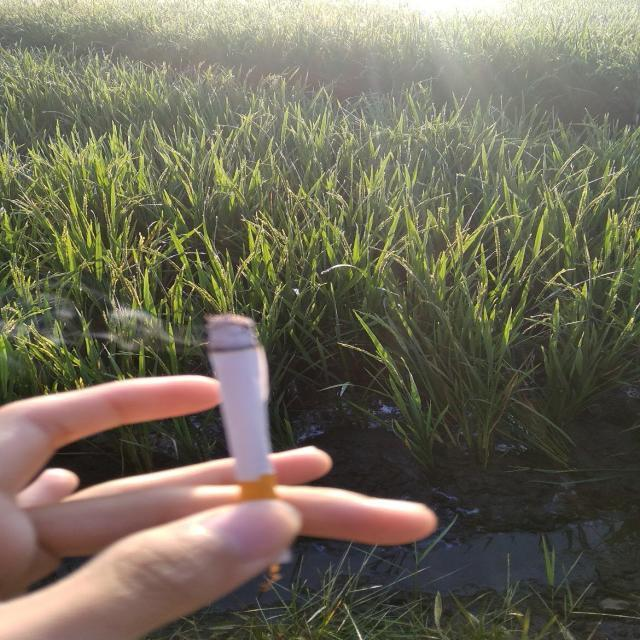rokok: (203, 308, 295, 564)
